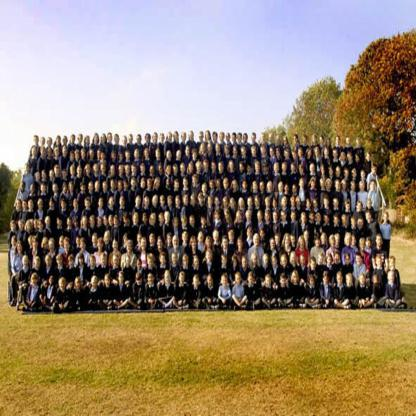face: (377, 237, 383, 247), (114, 257, 120, 266), (238, 240, 244, 249), (174, 238, 179, 248), (286, 237, 291, 247), (390, 273, 395, 283), (214, 232, 220, 240), (29, 201, 34, 210), (39, 201, 44, 210), (18, 245, 23, 254), (36, 260, 41, 269), (46, 257, 51, 266), (99, 199, 104, 208), (83, 218, 88, 227), (81, 242, 86, 251), (91, 258, 96, 267), (110, 198, 115, 207), (134, 216, 139, 225), (114, 242, 119, 251), (142, 240, 147, 249), (158, 240, 163, 249), (162, 256, 167, 265), (149, 275, 154, 284), (166, 275, 171, 284), (173, 255, 178, 264), (148, 179, 153, 188), (166, 214, 171, 223), (224, 180, 229, 189), (255, 236, 260, 245), (312, 260, 317, 269), (338, 275, 343, 284), (348, 278, 353, 287), (378, 259, 383, 268), (391, 260, 396, 269), (343, 217, 348, 226), (36, 174, 41, 182), (31, 186, 36, 194), (34, 240, 39, 248), (24, 259, 29, 267), (65, 242, 70, 250), (111, 167, 116, 175), (137, 198, 142, 206), (109, 218, 114, 226), (93, 237, 98, 245), (98, 242, 103, 250), (102, 257, 107, 265), (192, 240, 197, 248), (126, 167, 131, 175), (145, 199, 150, 207), (181, 165, 186, 173), (175, 182, 180, 190), (203, 185, 208, 193), (199, 195, 204, 203), (199, 234, 204, 242), (223, 240, 228, 248), (208, 253, 213, 261), (271, 240, 276, 248), (282, 214, 287, 222), (267, 279, 272, 287), (357, 256, 362, 264), (358, 220, 363, 228), (316, 239, 321, 247), (367, 214, 372, 222), (367, 241, 372, 249), (120, 166, 124, 175), (47, 218, 51, 227), (124, 219, 130, 225), (128, 244, 132, 253), (120, 274, 124, 283), (142, 180, 146, 189), (187, 147, 191, 156), (258, 212, 262, 221), (243, 259, 247, 268), (283, 257, 287, 266), (50, 277, 55, 284), (141, 166, 146, 173), (207, 241, 212, 248), (230, 235, 235, 242), (223, 258, 228, 265), (301, 258, 306, 265), (275, 166, 280, 173), (322, 237, 327, 244), (64, 149, 68, 157), (71, 154, 75, 162), (56, 169, 60, 177), (63, 172, 67, 180), (78, 168, 82, 176), (42, 186, 46, 194), (54, 185, 58, 193), (18, 201, 22, 209), (23, 202, 27, 210), (13, 239, 17, 247), (109, 134, 113, 142), (91, 151, 95, 159), (98, 151, 102, 159), (102, 165, 106, 173), (113, 153, 117, 161), (77, 238, 81, 246), (133, 180, 137, 188), (121, 199, 125, 207), (91, 219, 95, 227), (104, 218, 108, 226), (124, 238, 128, 246), (127, 259, 131, 267), (184, 235, 188, 243), (184, 259, 188, 267), (181, 276, 185, 284), (195, 279, 199, 287), (93, 281, 97, 289), (148, 136, 152, 144), (151, 167, 155, 175), (185, 196, 189, 204), (144, 217, 148, 225), (152, 217, 156, 225), (175, 220, 179, 228), (178, 152, 182, 160), (184, 179, 188, 187), (194, 178, 198, 186), (192, 198, 196, 206), (216, 198, 220, 206), (209, 278, 213, 286), (223, 278, 227, 286), (237, 276, 241, 284), (249, 199, 253, 207), (247, 214, 251, 222), (253, 257, 257, 265), (250, 277, 254, 285), (273, 259, 277, 267), (266, 214, 270, 222), (274, 213, 278, 221), (260, 183, 264, 191), (280, 185, 284, 193), (282, 279, 286, 287), (328, 257, 332, 265), (361, 277, 365, 285), (336, 255, 340, 263), (347, 257, 351, 265), (262, 134, 266, 142), (277, 136, 281, 144), (256, 165, 260, 173), (264, 166, 268, 174), (337, 169, 341, 177), (314, 201, 318, 209), (303, 216, 307, 224), (292, 237, 296, 245), (300, 240, 304, 248), (332, 240, 336, 248), (336, 238, 340, 246), (347, 238, 351, 246), (292, 255, 296, 263), (361, 243, 365, 251), (35, 222, 39, 230), (61, 283, 66, 289), (70, 260, 75, 266), (151, 238, 156, 244), (273, 201, 278, 207), (311, 166, 316, 172), (336, 183, 341, 189), (72, 137, 76, 144), (79, 136, 83, 143), (33, 149, 37, 156), (42, 149, 46, 156), (43, 173, 47, 180), (50, 171, 54, 178), (12, 224, 16, 231), (20, 222, 24, 229), (40, 222, 44, 229), (58, 259, 62, 266), (102, 136, 106, 143), (102, 153, 106, 160), (87, 201, 91, 208), (59, 221, 63, 228), (104, 184, 108, 191), (98, 219, 102, 226), (115, 219, 119, 226), (138, 262, 142, 269), (149, 260, 153, 267), (168, 237, 172, 244), (77, 282, 81, 289), (154, 136, 158, 143), (126, 153, 130, 160), (146, 151, 150, 158), (157, 151, 161, 158), (133, 167, 137, 174), (157, 181, 161, 188), (162, 198, 166, 205), (160, 216, 164, 223), (191, 218, 195, 225), (168, 134, 172, 141), (183, 134, 187, 141), (190, 134, 194, 141), (220, 134, 224, 141), (233, 135, 237, 142), (193, 151, 197, 158), (175, 166, 179, 173), (198, 165, 202, 172), (231, 201, 235, 208), (226, 213, 230, 220), (234, 260, 238, 267), (248, 231, 252, 238), (261, 232, 265, 239), (254, 184, 258, 191), (320, 257, 324, 264), (324, 276, 328, 283), (374, 277, 378, 284), (242, 148, 246, 155), (269, 135, 273, 142), (293, 153, 297, 160), (299, 150, 303, 157), (337, 137, 341, 144), (361, 184, 365, 191), (293, 187, 297, 194), (318, 217, 322, 224), (335, 218, 339, 225), (353, 220, 357, 227), (305, 234, 309, 241), (352, 238, 356, 245), (368, 202, 372, 209), (195, 259, 198, 268), (35, 138, 39, 144), (49, 139, 52, 147), (49, 150, 52, 158), (56, 151, 60, 157), (76, 154, 80, 160), (22, 183, 25, 191), (51, 203, 55, 209), (33, 279, 37, 285), (51, 244, 55, 250), (61, 240, 64, 248), (86, 139, 90, 145), (95, 136, 98, 144), (116, 137, 120, 143), (90, 184, 93, 192), (69, 219, 72, 227), (80, 259, 84, 265), (112, 182, 115, 190), (120, 182, 123, 190), (125, 183, 129, 189), (106, 237, 110, 243), (139, 236, 143, 242), (138, 279, 142, 285), (106, 279, 110, 285), (124, 138, 128, 144), (129, 137, 133, 143), (136, 152, 140, 158), (160, 167, 163, 175), (155, 198, 158, 206), (169, 199, 173, 205), (177, 198, 180, 206), (183, 221, 187, 227), (207, 132, 210, 140), (168, 152, 172, 158), (201, 147, 205, 153), (208, 146, 212, 152), (220, 164, 223, 172), (217, 182, 221, 188), (234, 183, 237, 191), (209, 200, 213, 206), (202, 219, 206, 225), (216, 213, 220, 219), (224, 201, 228, 207), (238, 216, 242, 222), (256, 199, 259, 207), (277, 237, 280, 245), (283, 201, 287, 207), (268, 185, 272, 191), (286, 187, 290, 193), (294, 277, 298, 283), (311, 279, 315, 285), (240, 165, 244, 171), (253, 149, 256, 157), (262, 148, 266, 154), (286, 152, 290, 158), (283, 165, 287, 171), (248, 166, 252, 172), (294, 137, 298, 143), (347, 140, 351, 146), (356, 157, 360, 163), (300, 169, 304, 175), (330, 170, 334, 176), (352, 185, 356, 191), (327, 184, 331, 190), (312, 182, 316, 188), (325, 200, 329, 206), (335, 201, 339, 207), (347, 205, 351, 211), (292, 214, 296, 220), (311, 214, 315, 220), (326, 216, 330, 222), (372, 182, 375, 190), (26, 166, 29, 173), (95, 166, 98, 173), (120, 154, 123, 161), (64, 185, 67, 192), (71, 185, 74, 192), (83, 185, 86, 192), (97, 184, 100, 191), (63, 202, 66, 209), (75, 203, 78, 210), (239, 135, 242, 142), (168, 168, 171, 175), (213, 164, 216, 171), (231, 163, 234, 170), (211, 182, 214, 189), (240, 201, 243, 208), (265, 258, 268, 265), (244, 182, 247, 189), (245, 136, 248, 143), (271, 149, 274, 156), (304, 137, 307, 144), (309, 150, 312, 157), (316, 150, 319, 157), (342, 154, 345, 161), (301, 181, 304, 188), (385, 215, 388, 222), (87, 169, 91, 174), (42, 140, 45, 146), (64, 138, 67, 144), (72, 169, 75, 175), (28, 224, 31, 230), (45, 243, 48, 249), (83, 152, 86, 158), (138, 137, 141, 143), (162, 137, 165, 143), (175, 134, 178, 140), (200, 134, 203, 140), (214, 135, 217, 141), (227, 135, 230, 141), (218, 147, 221, 153), (226, 149, 229, 155), (235, 150, 238, 156), (205, 164, 208, 170), (168, 180, 171, 186), (267, 202, 270, 208), (253, 135, 256, 141), (285, 140, 288, 146), (277, 151, 280, 157), (314, 137, 317, 143), (321, 138, 324, 144), (328, 141, 331, 147), (335, 152, 338, 158), (349, 156, 352, 162), (292, 166, 295, 172), (322, 168, 325, 174), (346, 171, 349, 177), (354, 172, 357, 178), (362, 173, 365, 179), (344, 183, 347, 189), (322, 182, 325, 188), (292, 201, 295, 207), (298, 201, 301, 207), (308, 202, 311, 208), (359, 205, 362, 211), (368, 156, 371, 162), (374, 168, 377, 174), (58, 138, 61, 143), (76, 222, 79, 227), (190, 166, 193, 171), (326, 151, 329, 156), (358, 141, 361, 146)
